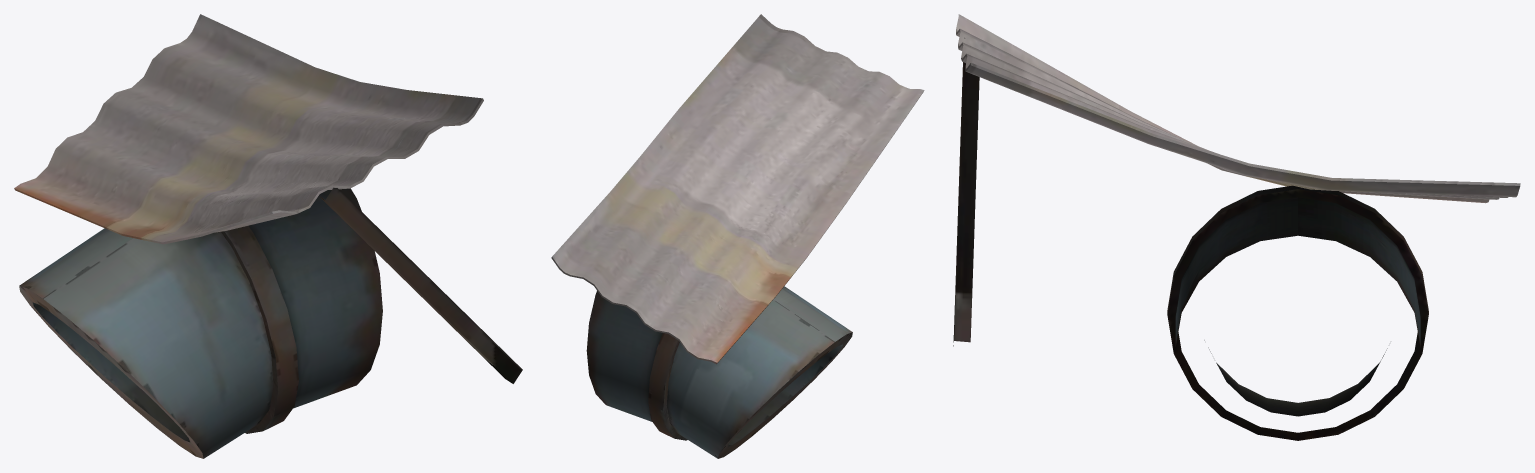
3 views of the same model, side by side, from view 1: azimuth 30°, elevation 25°; view 2: azimuth 150°, elevation 25°; view 3: azimuth 270°, elevation 25° (orthographic). The views are drawn at different scales.
Parts seen in each view (by area): view 1: body0_model0_lod0_mesh0; view 2: body0_model0_lod0_mesh0; view 3: body0_model0_lod0_mesh0.
Part boxes in pixels (box(x1,y1,x2,y2)): body0_model0_lod0_mesh0: box(14, 14, 522, 458); body0_model0_lod0_mesh0: box(551, 14, 924, 458); body0_model0_lod0_mesh0: box(953, 14, 1520, 440).
Size of the model in its own units: 40.05 by 55.51 by 67.32.
Materials: 1 (1 with a texture image).
